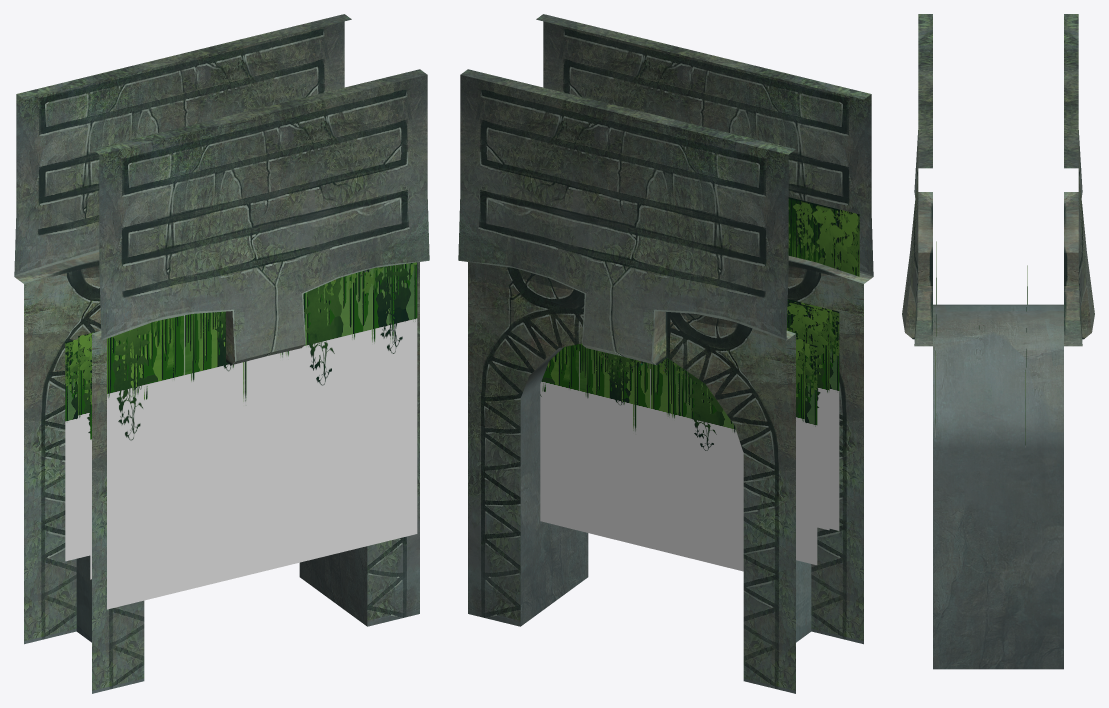
File: Gateway.fbx
The picture shows the model from 3 angles, left to right: view 1: azimuth 30°, elevation 25°; view 2: azimuth 150°, elevation 25°; view 3: azimuth 270°, elevation 25°; orthographic projection. The views are drawn at different scales.
Parts seen in each view (by area): view 1: polySurface41; view 2: polySurface41; view 3: polySurface41.
Part boxes in pixels (<box>): polySurface41: <box>14,14,429,693</box>; polySurface41: <box>458,14,873,693</box>; polySurface41: <box>902,14,1094,669</box>.
Size of the model in its own units: 354 by 561 by 187.
